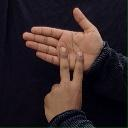hand: (21, 7, 104, 72), (43, 47, 83, 123)
